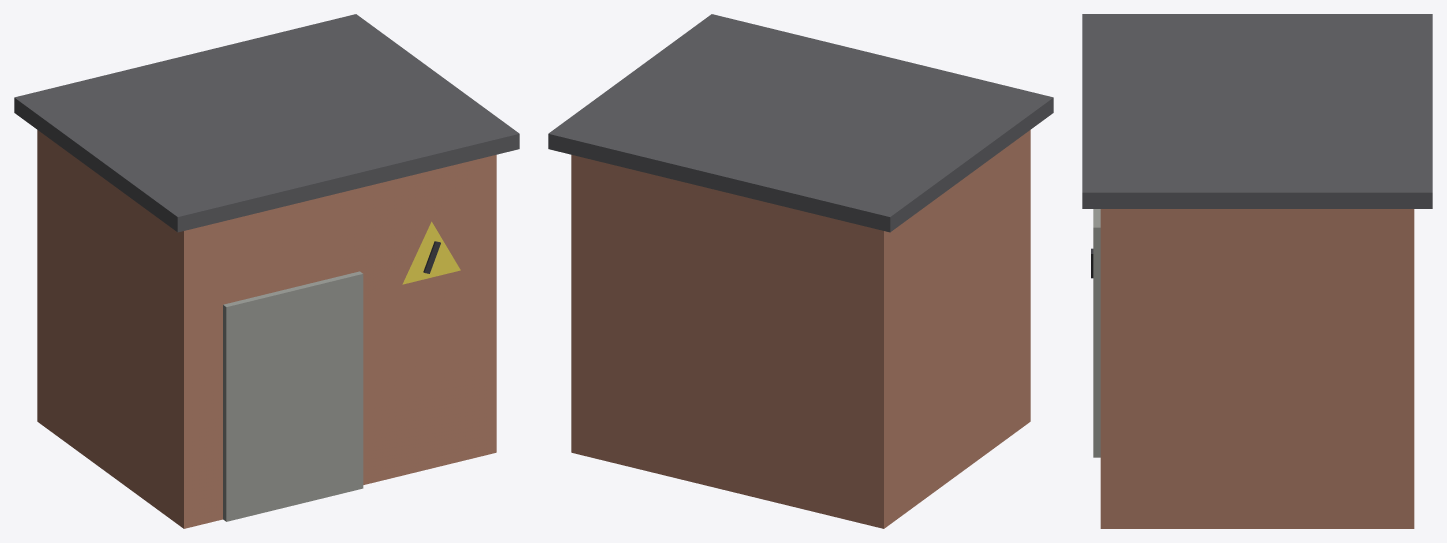
The model's file is transformer_box.glb.
The picture shows the model from 3 angles, left to right: view 1: azimuth 30°, elevation 25°; view 2: azimuth 150°, elevation 25°; view 3: azimuth 270°, elevation 25°; orthographic projection. The views are drawn at different scales.
Parts seen in each view (by area): view 1: transformer_box; view 2: transformer_box; view 3: transformer_box.
Part boxes in pixels (<box>): transformer_box: <box>14,14,519,528</box>; transformer_box: <box>548,14,1053,528</box>; transformer_box: <box>1082,14,1432,528</box>.
Size of the model in its own units: 3.5 by 3.14 by 2.9.
